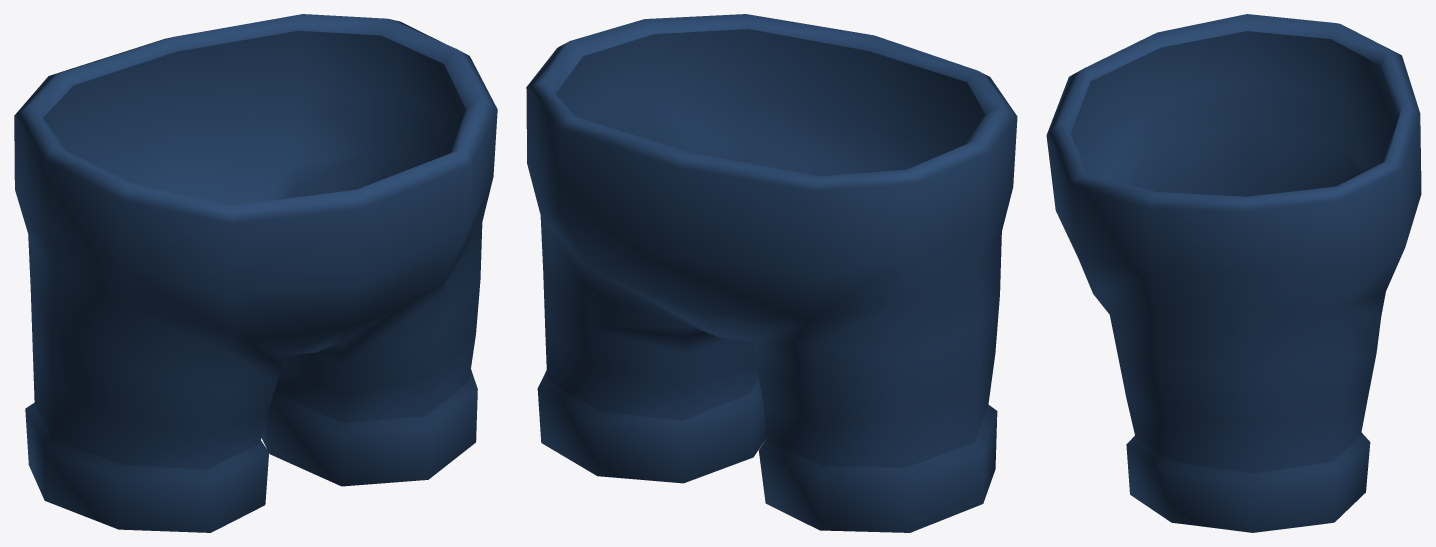
Rendered from Bottom_9.fbx.
The picture shows the model from 3 angles, left to right: view 1: azimuth 30°, elevation 25°; view 2: azimuth 150°, elevation 25°; view 3: azimuth 270°, elevation 25°; orthographic projection. The views are drawn at different scales.
Visible parts, largest first — view 1: Bottom_9; view 2: Bottom_9; view 3: Bottom_9.
Boxes of the visible parts, x1=… form: Bottom_9: x1=14, y1=14, x2=497, y2=532; Bottom_9: x1=526, y1=14, x2=1017, y2=532; Bottom_9: x1=1046, y1=14, x2=1421, y2=532.
Size of the model in its own units: 38.42 by 32.12 by 31.34.
